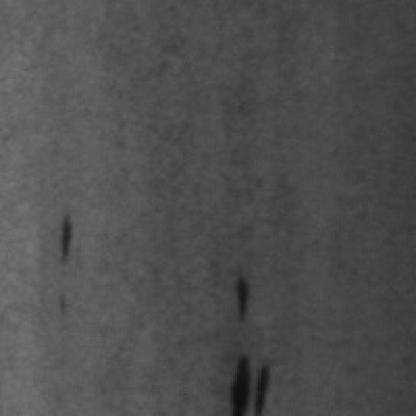inclusion: (218, 344, 272, 412), (46, 202, 80, 272), (222, 264, 254, 322)
